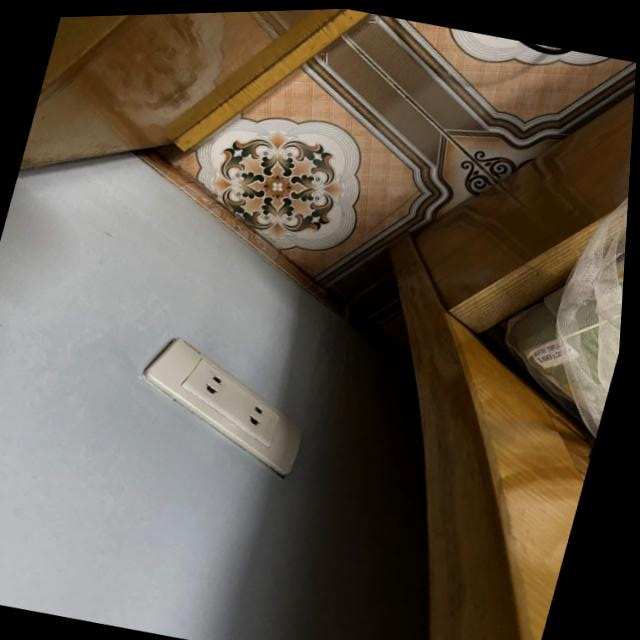outlet: (121, 327, 326, 484)
